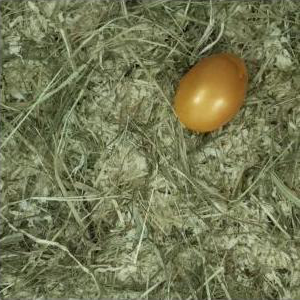egg: (175, 53, 250, 131)
